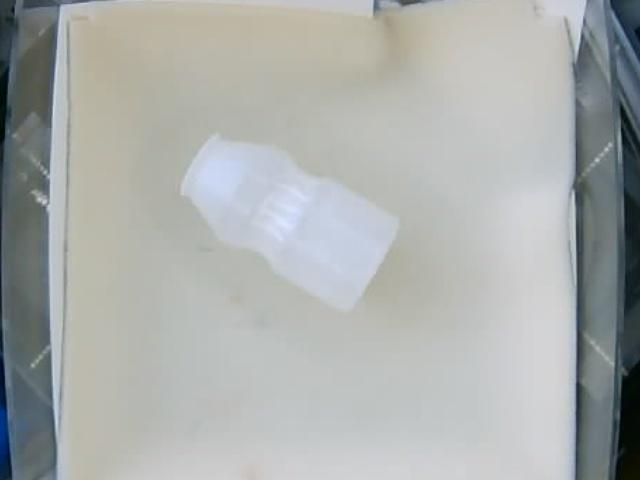Bottle: (178, 131, 402, 313)
